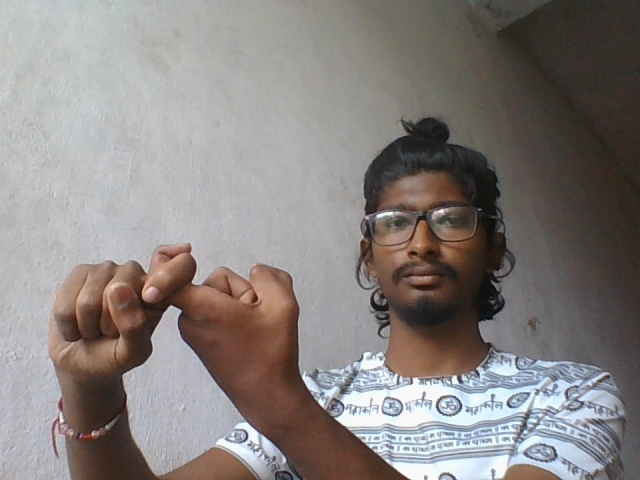ILoveYou: (42, 241, 328, 400)
